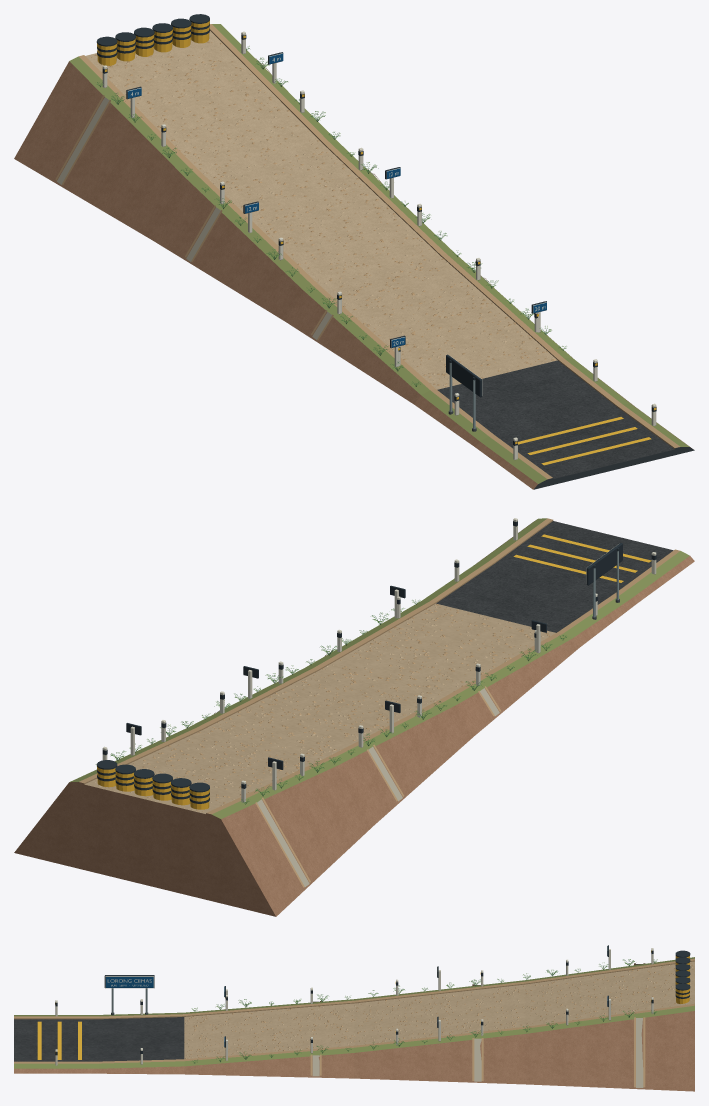
3 views of the same model, one above another, from view 1: azimuth 30°, elevation 25°; view 2: azimuth 150°, elevation 25°; view 3: azimuth 270°, elevation 25° (orthographic). The views are drawn at different scales.
Visible parts, largest first — view 1: Graded escape bed, Loose arresting aggregate, Batter downchutes, Sand-filled terminal drums, Edge delineators, Shoulder groundcover, Bed markers, Threshold rumble bars, Drum lids, Wayfinding plaque; view 2: Graded escape bed, Loose arresting aggregate, Batter downchutes, Edge delineators, Sand-filled terminal drums, Shoulder groundcover, Bed markers, Drum lids, Wayfinding plaque, Threshold rumble bars, Terminal drum bands; view 3: Graded escape bed, Loose arresting aggregate, Batter downchutes, Shoulder groundcover, Wayfinding plaque, Edge delineators, Drum lids, Threshold rumble bars, Bed markers, Sand-filled terminal drums.
Part boxes in pixels (x1,y1,x2,y2): Graded escape bed: [14, 24, 694, 489]; Loose arresting aggregate: [91, 36, 555, 387]; Batter downchutes: [55, 58, 493, 340]; Sand-filled terminal drums: [97, 20, 209, 65]; Edge delineators: [102, 31, 656, 459]; Shoulder groundcover: [96, 46, 566, 386]; Bed markers: [126, 52, 546, 367]; Threshold rumble bars: [518, 417, 651, 465]; Drum lids: [96, 14, 209, 46]; Wayfinding plaque: [446, 354, 482, 431]; Graded escape bed: [14, 518, 694, 916]; Loose arresting aggregate: [94, 604, 549, 811]; Batter downchutes: [214, 650, 500, 887]; Edge delineators: [102, 518, 656, 803]; Sand-filled terminal drums: [97, 766, 209, 809]; Shoulder groundcover: [95, 599, 566, 804]; Bed markers: [126, 585, 546, 790]; Drum lids: [96, 760, 209, 792]; Wayfinding plaque: [586, 543, 622, 619]; Threshold rumble bars: [513, 534, 651, 582]; Terminal drum bands: [97, 769, 209, 803]; Graded escape bed: [14, 957, 694, 1091]; Loose arresting aggregate: [184, 963, 693, 1058]; Batter downchutes: [310, 963, 645, 1087]; Shoulder groundcover: [191, 959, 657, 1063]; Wayfinding plaque: [104, 975, 154, 1015]; Edge delineators: [55, 948, 653, 1065]; Drum lids: [675, 950, 690, 990]; Threshold rumble bars: [37, 1021, 81, 1059]; Bed markers: [224, 945, 610, 1060]; Sand-filled terminal drums: [675, 956, 689, 1003].
Bounding box in the file's own units: 10.33 × 3.88 × 32.
19 materials, 3 textured.
